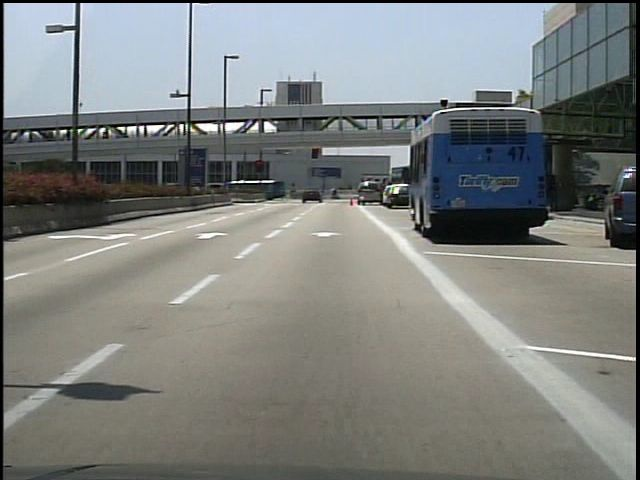person: (547, 175, 562, 211), (329, 187, 342, 201), (331, 186, 341, 202)
